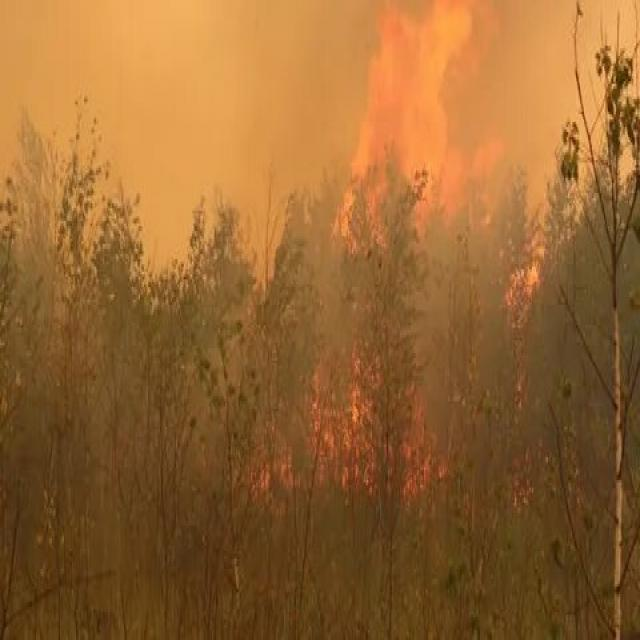Fire: (256, 0, 526, 588)
